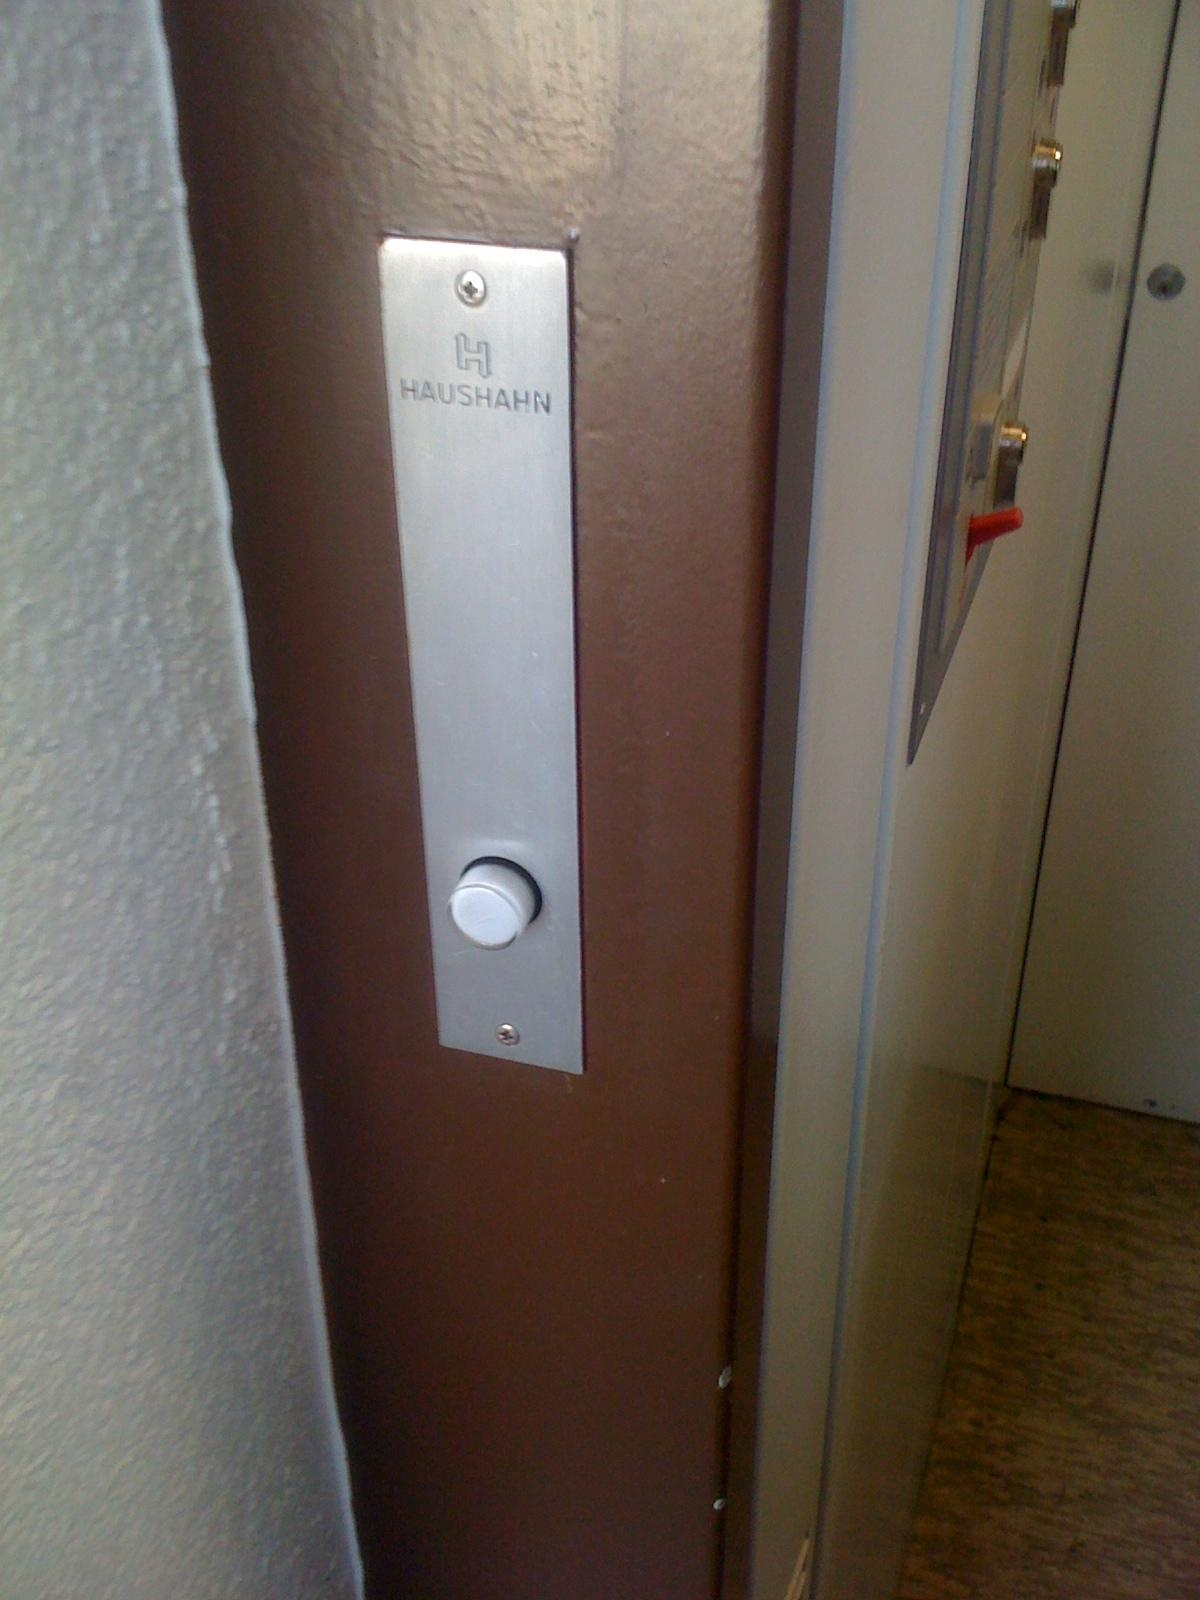empty: (434, 843, 551, 964)
